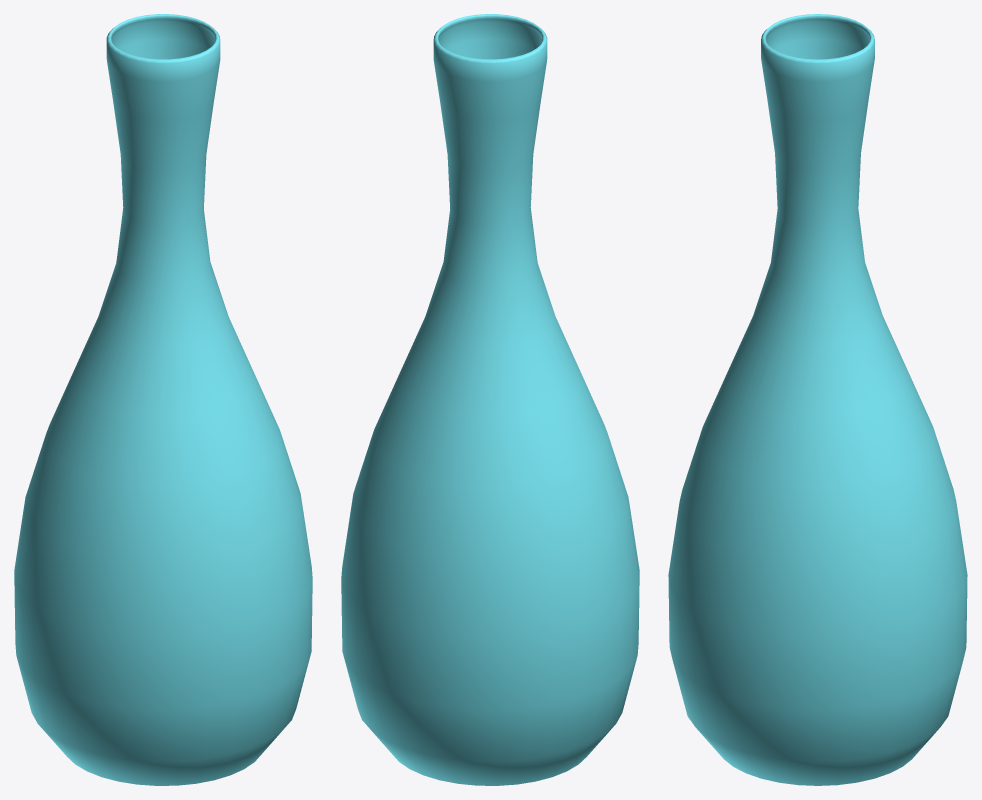
The model's file is vase_blue.fbx.
3 renders of one model, left to right at view 1: azimuth 30°, elevation 25°; view 2: azimuth 150°, elevation 25°; view 3: azimuth 270°, elevation 25°, orthographic.
Parts seen in each view (by area): view 1: Plane; view 2: Plane; view 3: Plane.
Boxes of the visible parts, x1,y1,x2,y2 form: Plane: (14,14,312,785); Plane: (341,14,639,785); Plane: (668,14,967,785).
Bounding box in the file's own units: 15 × 40 × 15.
